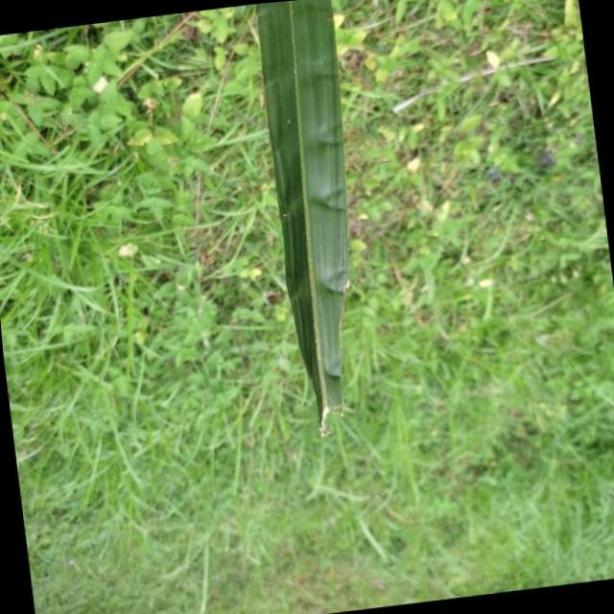Boron: (249, 0, 348, 437)
